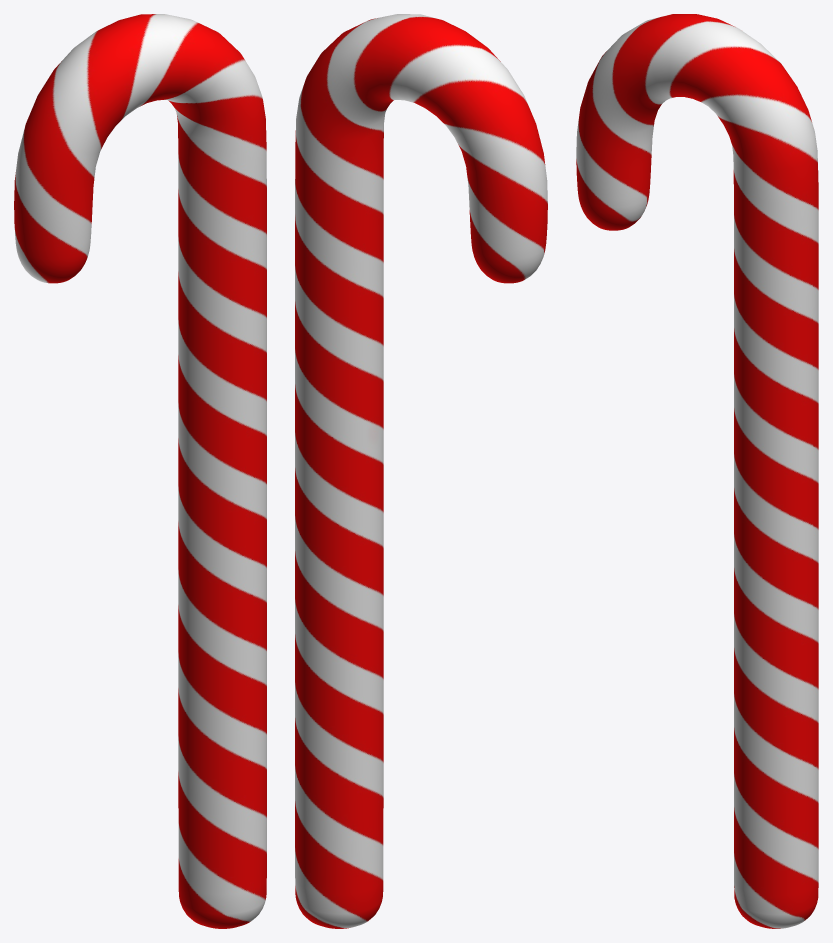
Rendered from candy_cane.glb.
3 views of the same model, side by side, from view 1: azimuth 30°, elevation 25°; view 2: azimuth 150°, elevation 25°; view 3: azimuth 330°, elevation 25° (orthographic). The views are drawn at different scales.
Parts seen in each view (by area): view 1: candy; view 2: candy; view 3: candy.
Part boxes in pixels (x1,y1,x2,y2): candy: [14, 14, 266, 928]; candy: [295, 14, 547, 928]; candy: [576, 14, 818, 928].
Bounding box in the file's own units: 192 × 700 × 60.92.
1 material, 1 textured.
